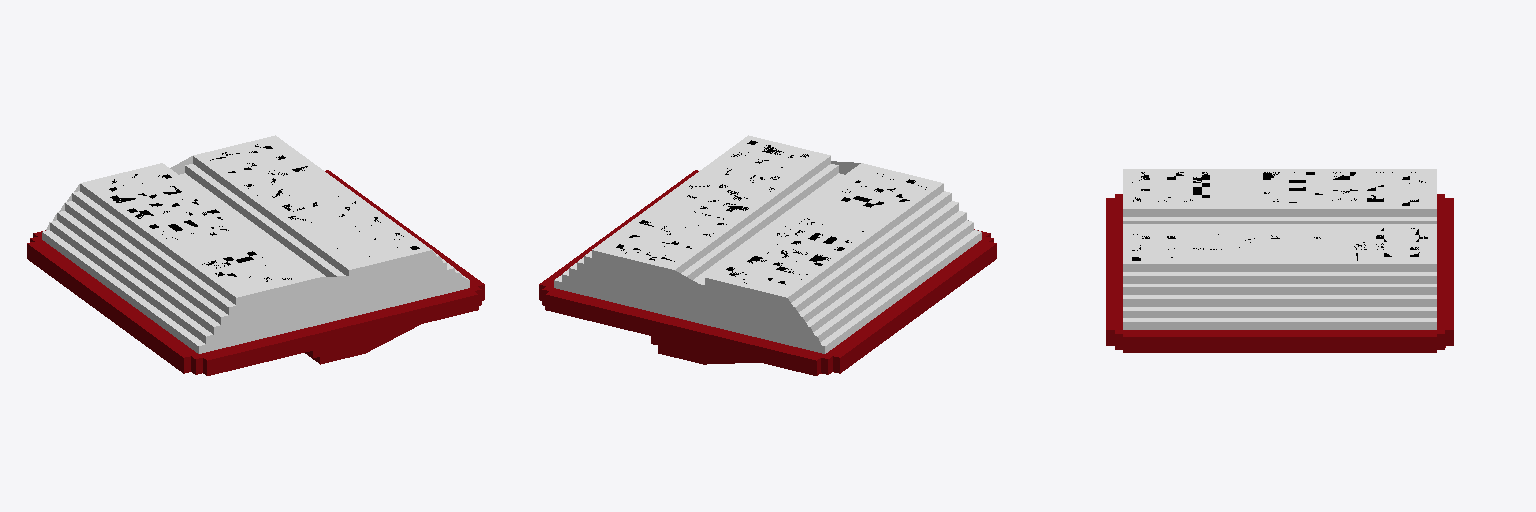
The model's file is Book.obj.
The picture shows the model from 3 angles: view 1: azimuth 30°, elevation 25°; view 2: azimuth 150°, elevation 25°; view 3: azimuth 270°, elevation 25°; orthographic projection.
Parts seen in each view (by area): view 1: Book; view 2: Book; view 3: Book.
Boxes of the visible parts, <box> form: Book: <box>27,135,484,375</box>; Book: <box>539,135,996,375</box>; Book: <box>1106,169,1453,352</box>.
Bounding box in the file's own units: 0.625 × 0.1562 × 0.625.